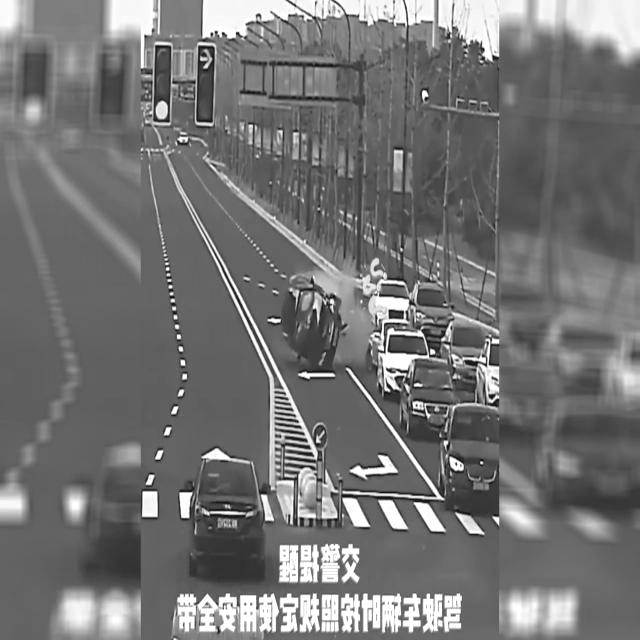accident: (274, 280, 364, 374)
non-accident: (372, 279, 500, 515)
